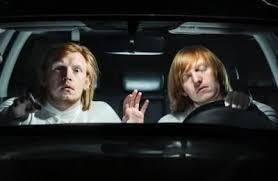Awake: (30, 39, 105, 115)
Drowsy: (163, 42, 227, 113)
